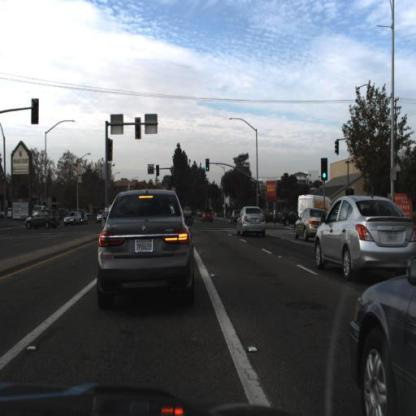car: (325, 277, 415, 412), (97, 192, 196, 294), (317, 200, 416, 283), (294, 202, 328, 244), (235, 206, 271, 239), (22, 205, 56, 229), (64, 211, 82, 226), (229, 209, 243, 226), (203, 207, 214, 228), (184, 206, 196, 224), (183, 202, 193, 223), (98, 210, 105, 222)
trafficLight: (33, 98, 41, 127), (106, 140, 114, 163), (135, 118, 142, 138), (334, 139, 341, 157)
trafficLight-Green: (321, 160, 328, 181), (205, 157, 213, 173), (171, 177, 176, 191), (156, 166, 161, 176)
truck: (297, 191, 333, 220)
